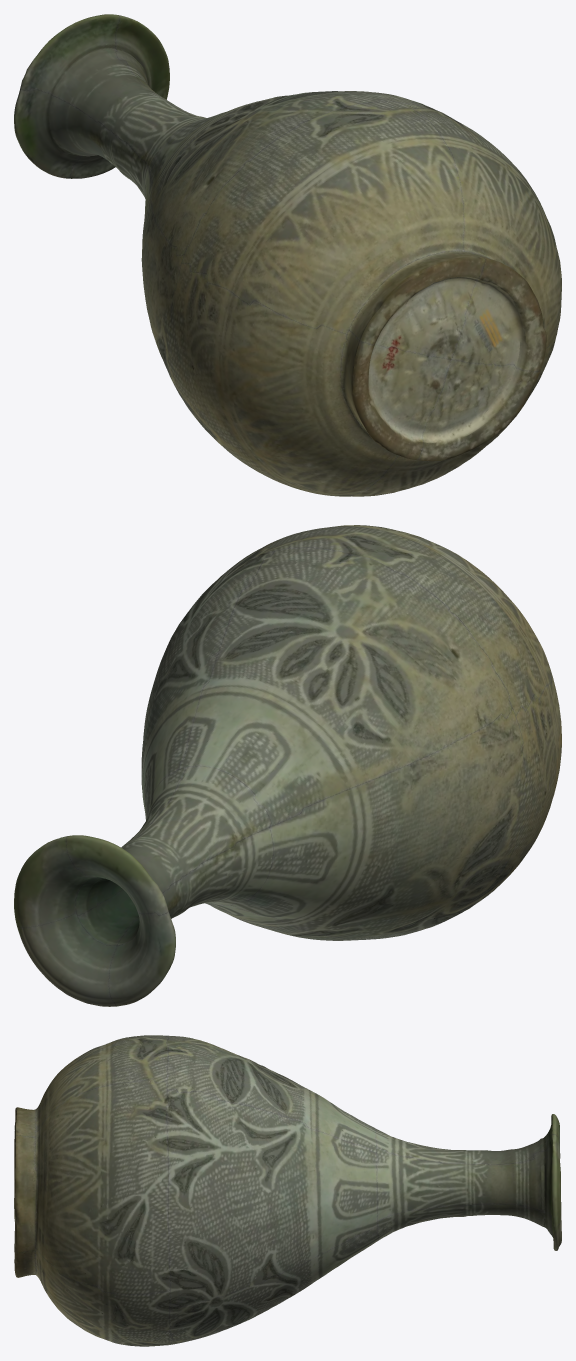
The model's file is nmk-1768.glb.
The picture shows the model from 3 angles, top to bottom: view 1: azimuth 30°, elevation 25°; view 2: azimuth 150°, elevation 25°; view 3: azimuth 270°, elevation 25°; orthographic projection. The views are drawn at different scales.
Parts seen in each view (by area): view 1: don001094-000-30000; view 2: don001094-000-30000; view 3: don001094-000-30000.
Part boxes in pixels (x1,y1,x2,y2): don001094-000-30000: (14,14,561,496); don001094-000-30000: (14,525,561,1006); don001094-000-30000: (14,1035,561,1346).
Bounding box in the file's own units: 0.8916 × 0.8804 × 1.56.
1 material, 1 textured.
